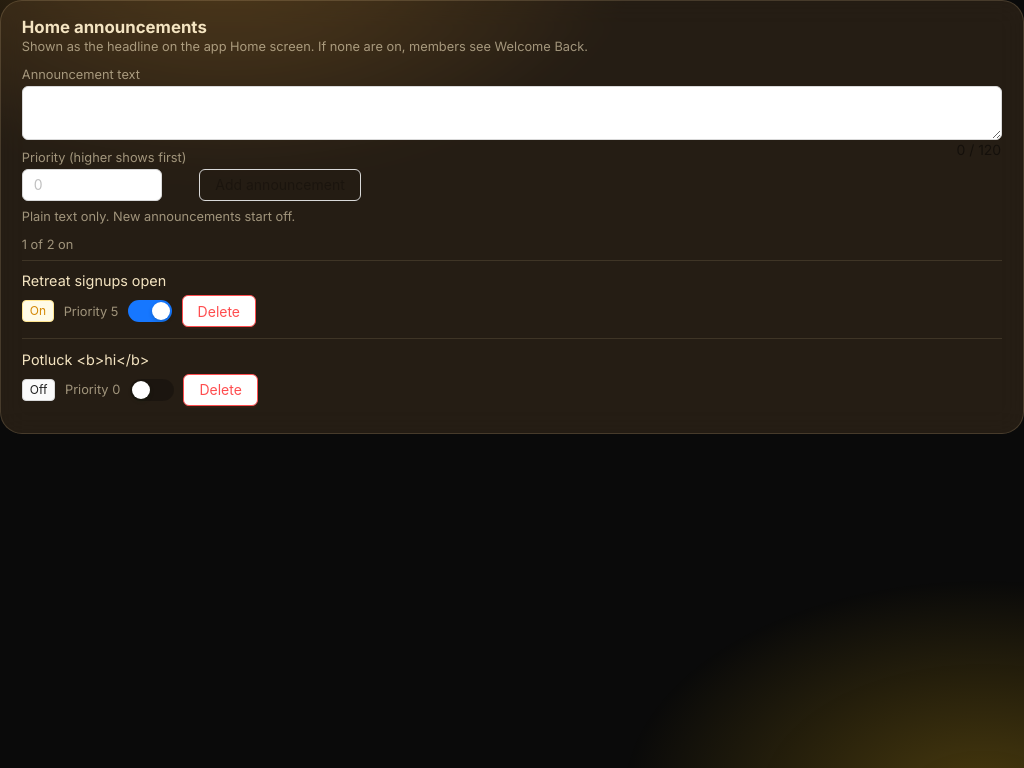
AdminHomeMessages › delete needs inline confirmation and can be cancelled
Expected: the text "Retreat signups open" is shown, top-left (22, 272), bottom-right (166, 289)
Click the button "Delete" below "Retreat signups open" at (219,311), box top-left (182, 295), bottom-right (256, 327)
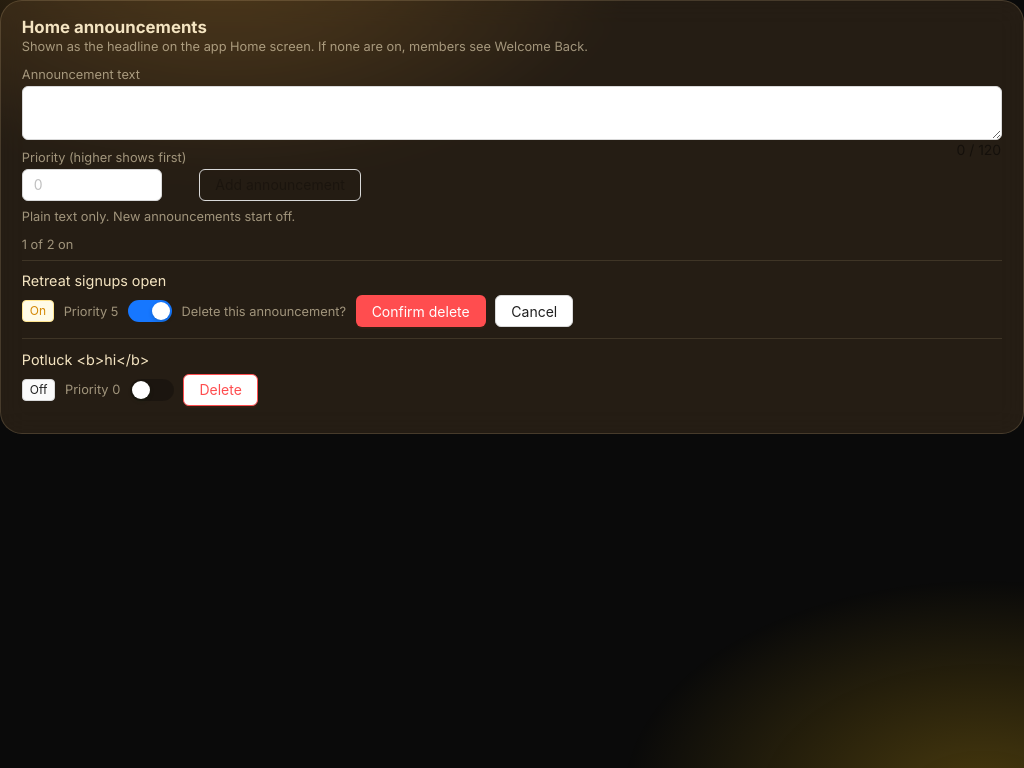
Click the button "Cancel" at (534,311), box top-left (495, 295), bottom-right (573, 327)
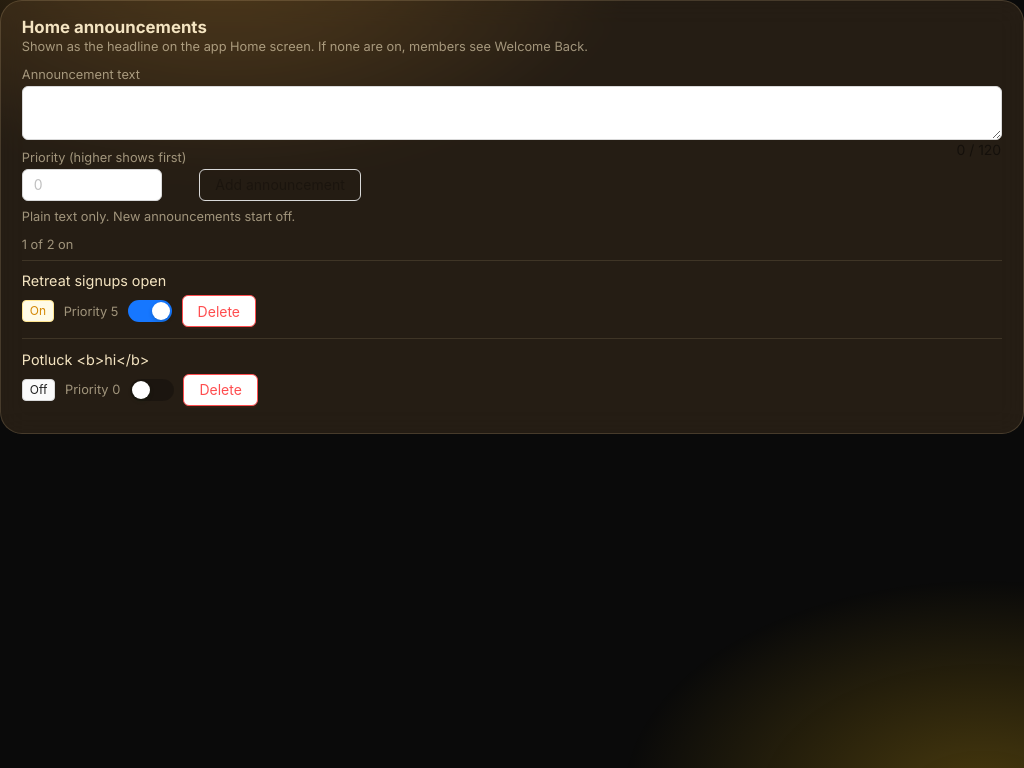
Click the button "Delete" below "Retreat signups open" at (219,311), box top-left (182, 295), bottom-right (256, 327)
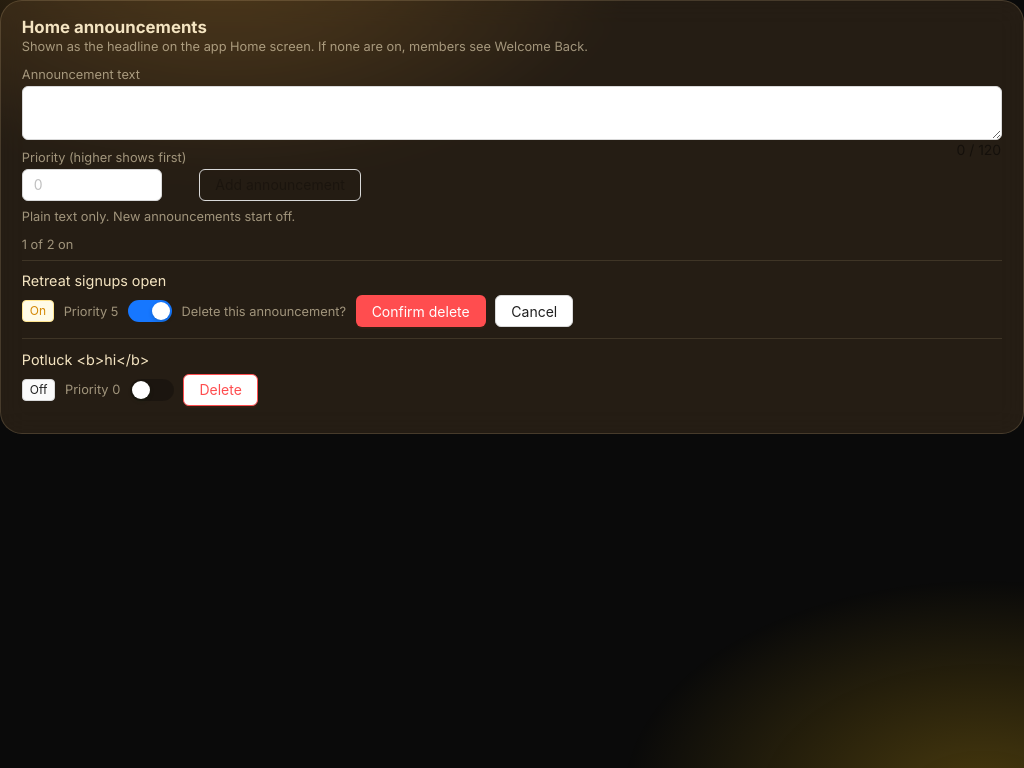
Click the button "Confirm delete" at (421,311), box top-left (356, 295), bottom-right (486, 327)
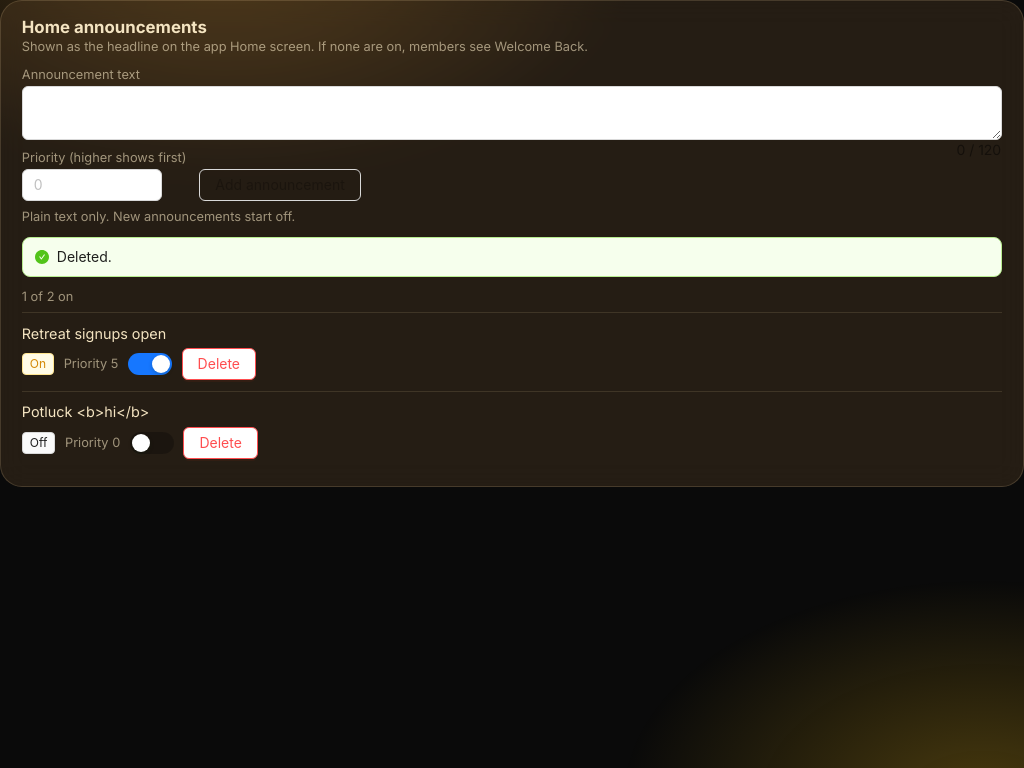
Result: the text "Deleted." is shown at top-left (57, 248), bottom-right (112, 265)
